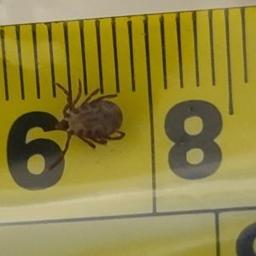Rhipicephalus sanguineus: (45, 82, 126, 170)
